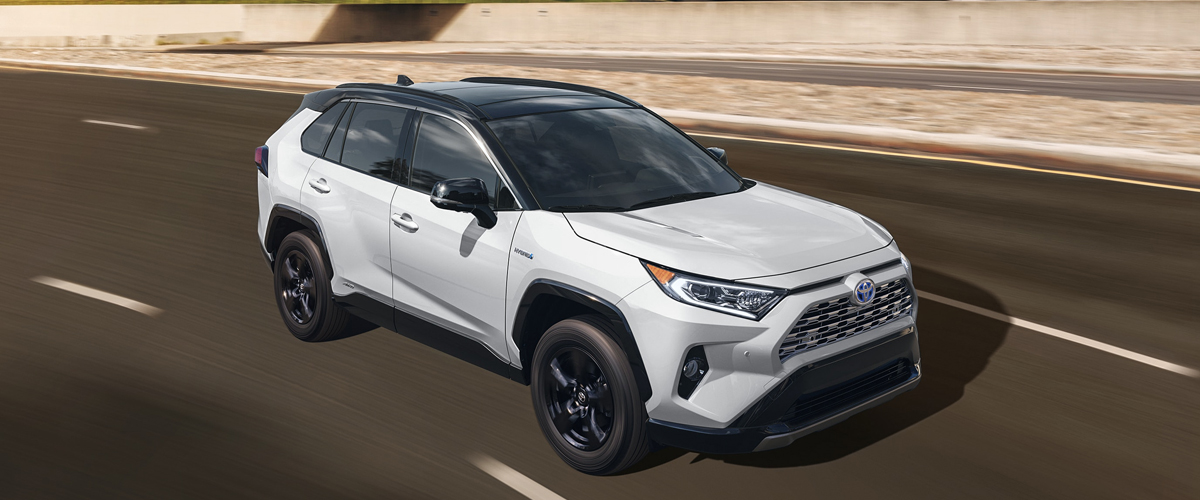Toyota RAV-4: (255, 78, 921, 476)
